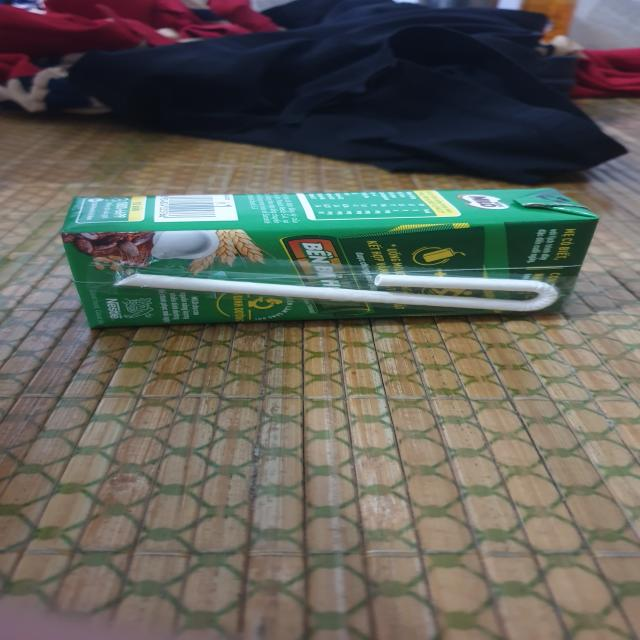Milo: (52, 180, 602, 325)
